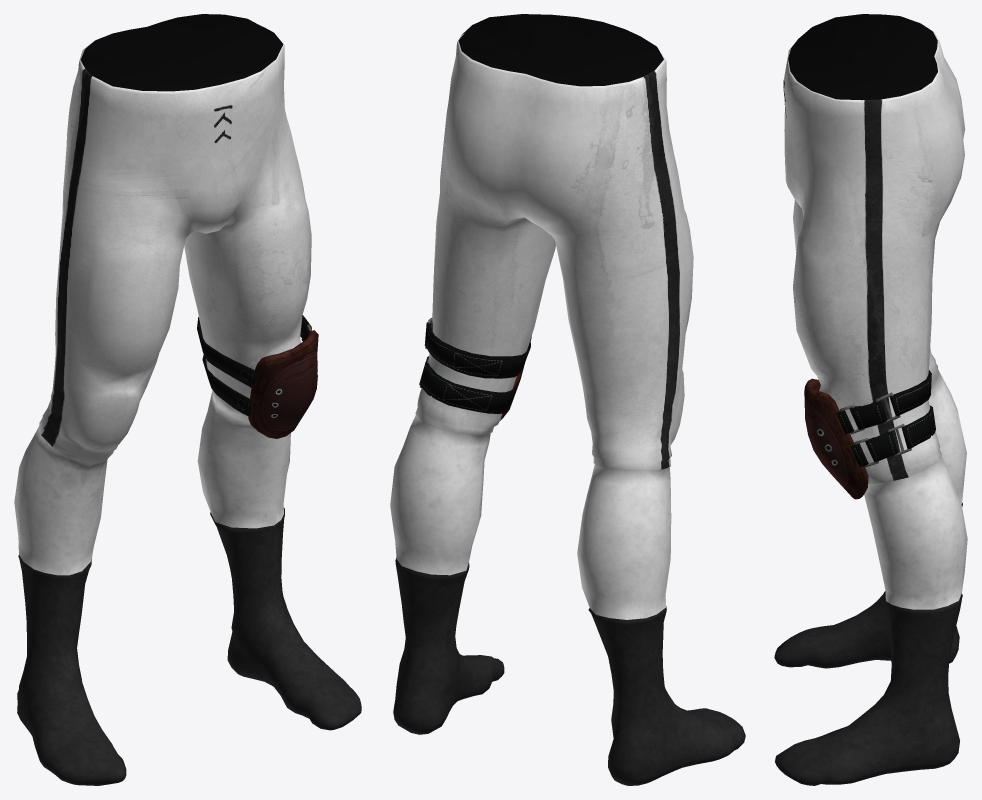
File: SurvivorMale_Legs_Pants_Football_ViKing_LOD0.glb
3 renders of one model, left to right at view 1: azimuth 30°, elevation 25°; view 2: azimuth 150°, elevation 25°; view 3: azimuth 270°, elevation 25°, orthographic. The views are drawn at different scales.
Visible parts, largest first — view 1: Hoodie; view 2: Hoodie; view 3: Hoodie.
Boxes of the visible parts, x1,y1,x2,y2 form: Hoodie: (14, 14, 361, 785); Hoodie: (390, 14, 745, 785); Hoodie: (774, 14, 967, 785).
Bounding box in the file's own units: 0.5351 × 1.13 × 0.2987.
1 material, 1 textured.
